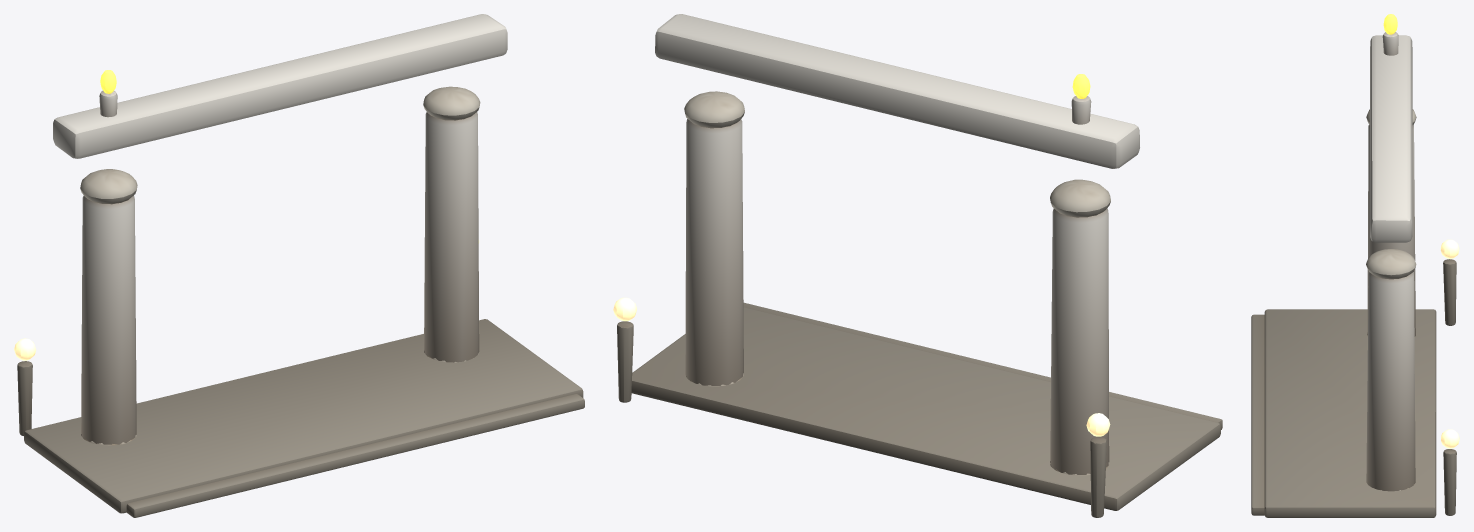
3 views of the same model, side by side, from view 1: azimuth 30°, elevation 25°; view 2: azimuth 150°, elevation 25°; view 3: azimuth 270°, elevation 25° (orthographic). The views are drawn at different scales.
Parts seen in each view (by area): view 1: gate_d7980854; view 2: gate_d7980854; view 3: gate_d7980854.
Part boxes in pixels (<box>): gate_d7980854: <box>14,14,584,517</box>; gate_d7980854: <box>613,14,1222,517</box>; gate_d7980854: <box>1251,14,1459,517</box>.
Size of the model in its own units: 5.75 by 4.49 by 2.55.
